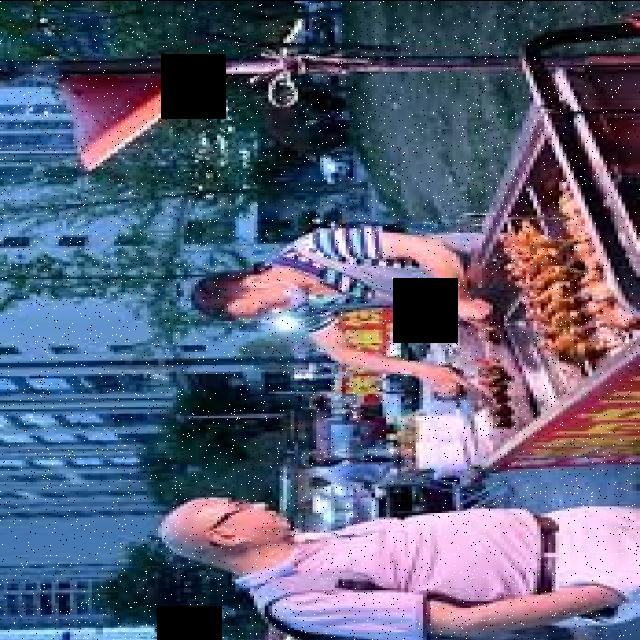food-booth: (445, 35, 640, 468)
